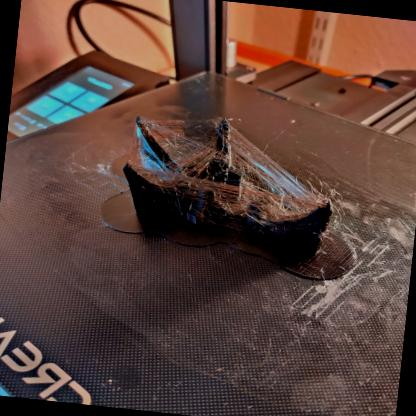fail: (226, 132, 310, 192), (167, 113, 221, 161), (247, 192, 305, 223), (207, 181, 251, 209)
